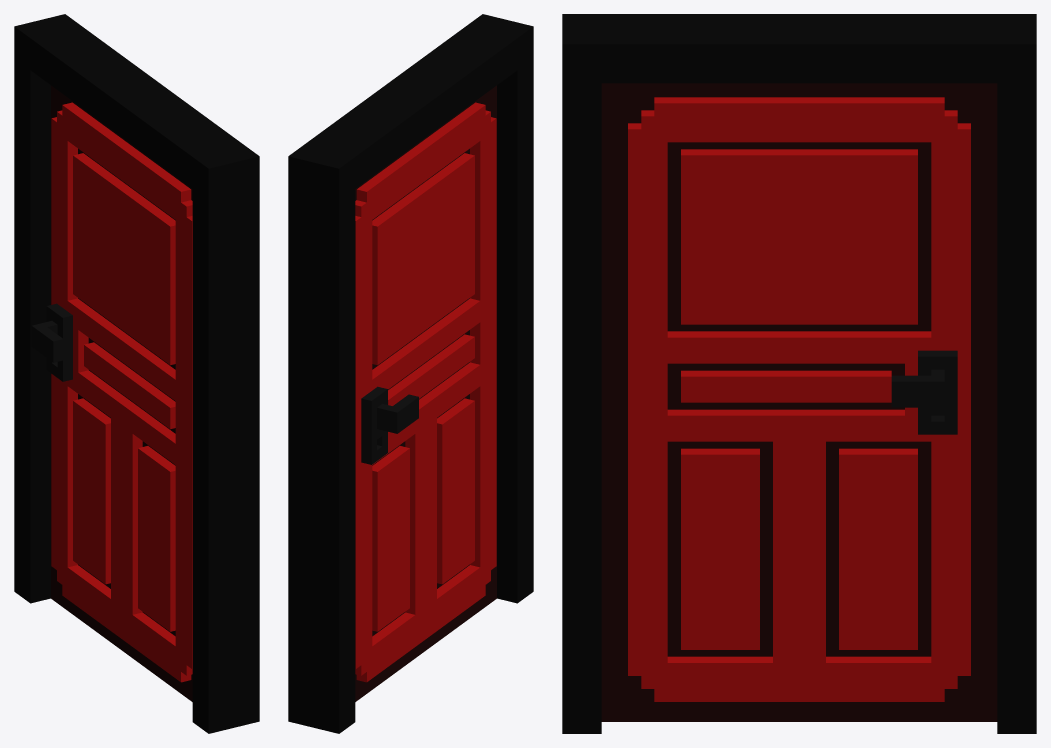
The model's file is Door 2.FBX.
3 views of the same model, side by side, from view 1: azimuth 30°, elevation 25°; view 2: azimuth 150°, elevation 25°; view 3: azimuth 270°, elevation 25° (orthographic). The views are drawn at different scales.
Visible parts, largest first — view 1: Do0r; view 2: Do0r; view 3: Do0r.
Part boxes in pixels (box(x1,y1,x2,y2)): Do0r: box(14, 14, 259, 733); Do0r: box(288, 14, 533, 733); Do0r: box(562, 14, 1036, 733).
Bounding box in the file's own units: 788 × 4640 × 2894.
